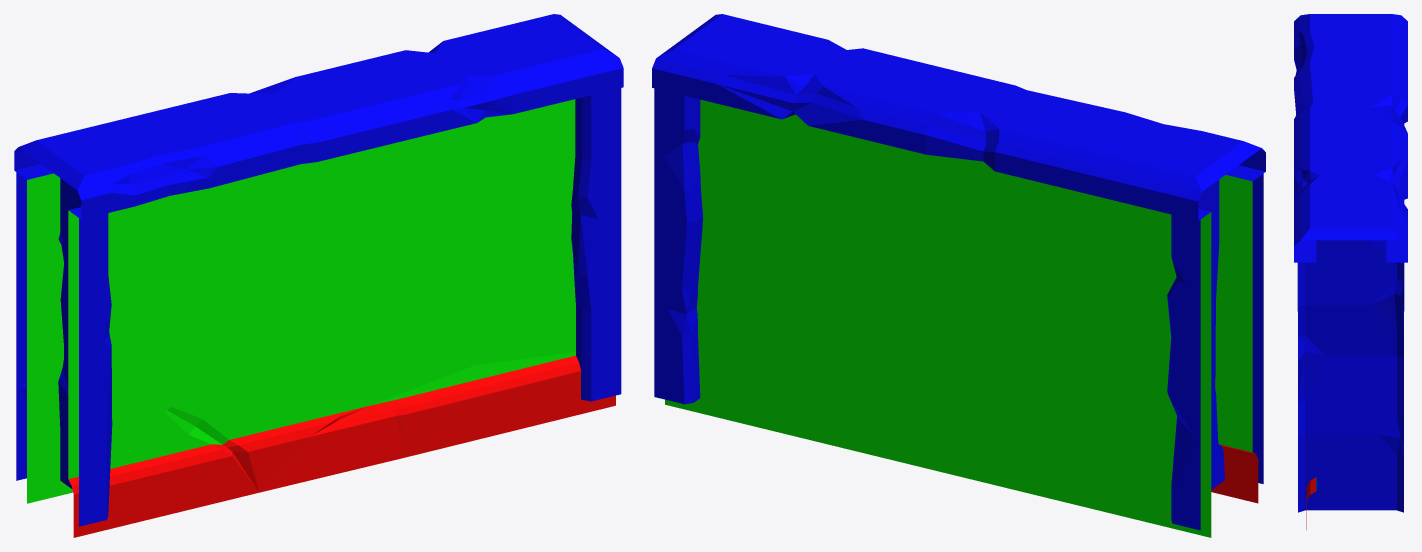
Rendered from dungeon_wall_edge.fbx.
The picture shows the model from 3 angles, left to right: view 1: azimuth 30°, elevation 25°; view 2: azimuth 150°, elevation 25°; view 3: azimuth 270°, elevation 25°; orthographic projection. The views are drawn at different scales.
Visible parts, largest first — view 1: dungeon_wall_edge; view 2: dungeon_wall_edge; view 3: dungeon_wall_edge.
Boxes of the visible parts, x1,y1,x2,y2 form: dungeon_wall_edge: (14,14,623,537); dungeon_wall_edge: (652,14,1265,537); dungeon_wall_edge: (1294,14,1407,529).
Bounding box in the file's own units: 200 × 42.72 × 126.
